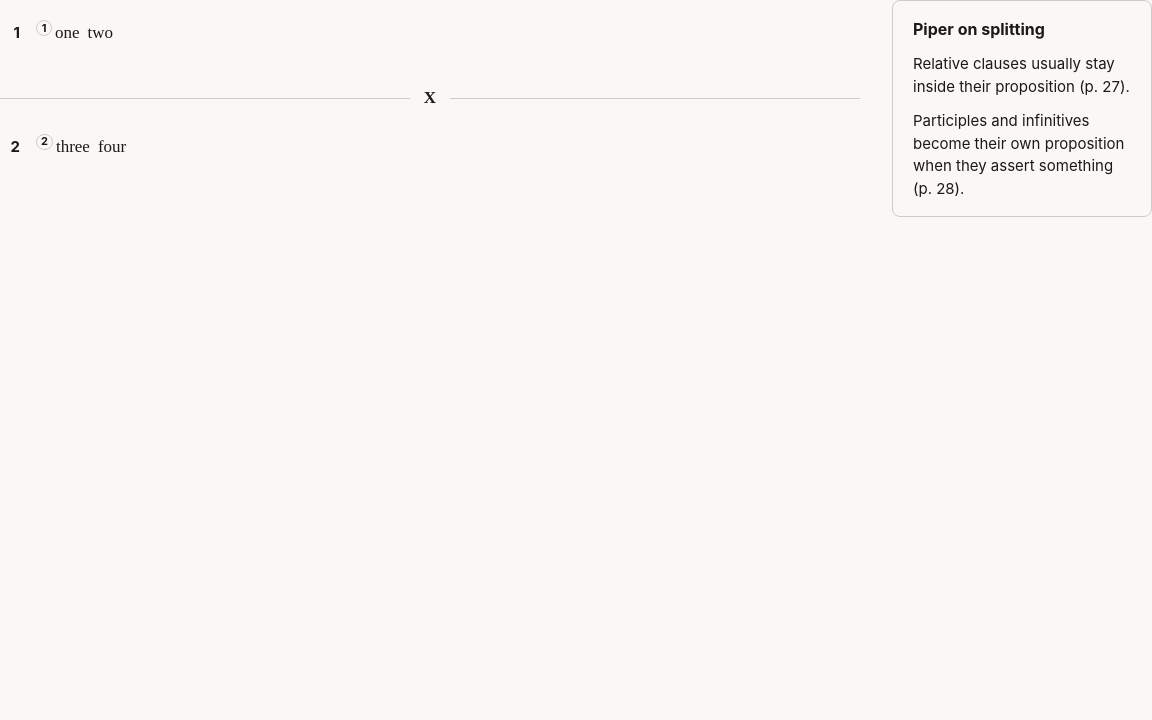
Test: cancelling the confirm leaves the document alone
Click the button with test id "word-4".
click(100, 33)  # box x1=84 y1=10 x2=117 y2=56
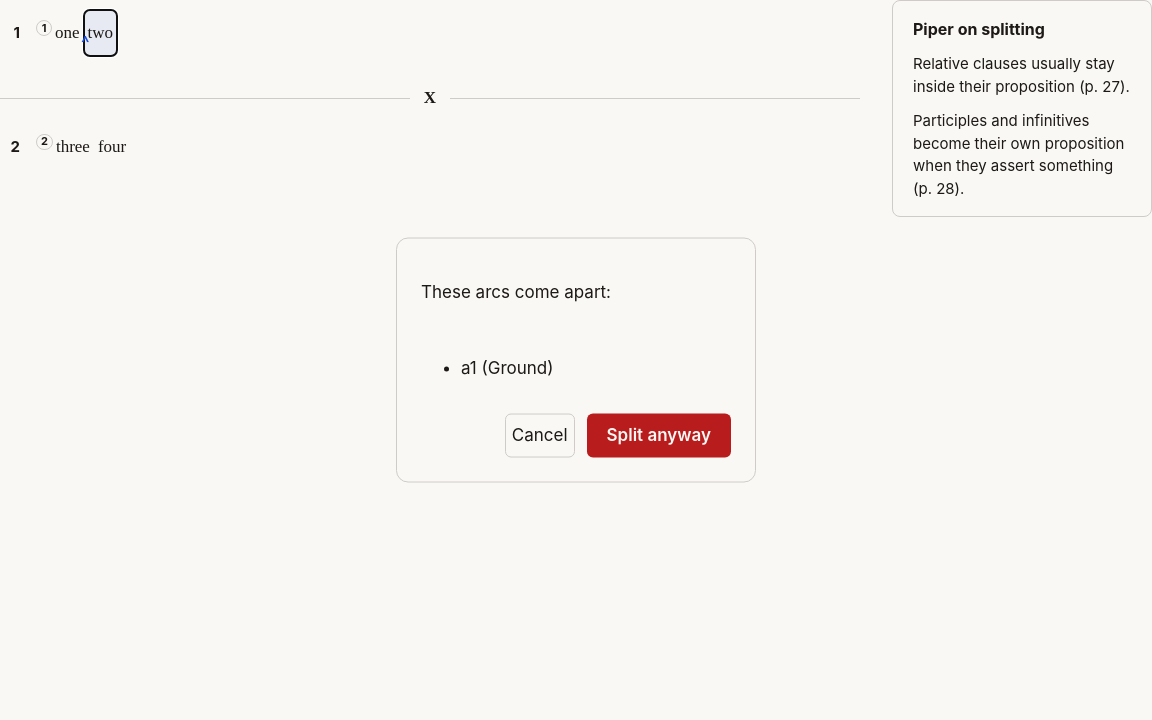
Click the button "Cancel".
click(540, 436)  # box x1=505 y1=414 x2=575 y2=458
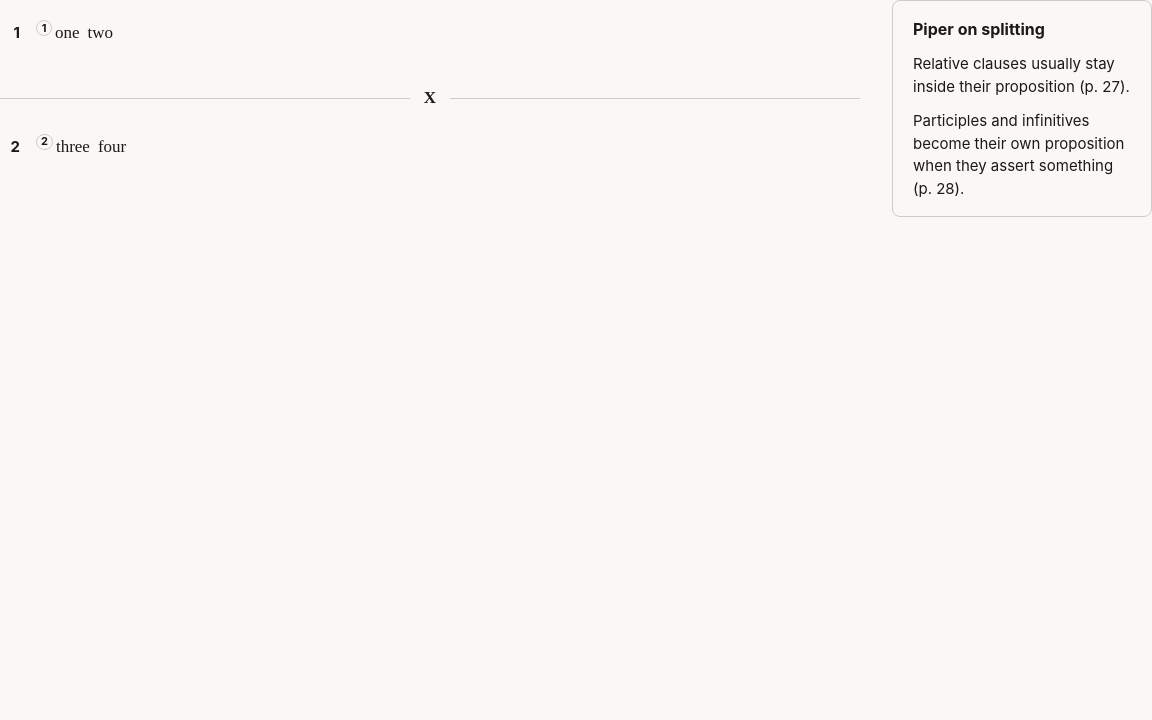
Check: the dialog is gone
